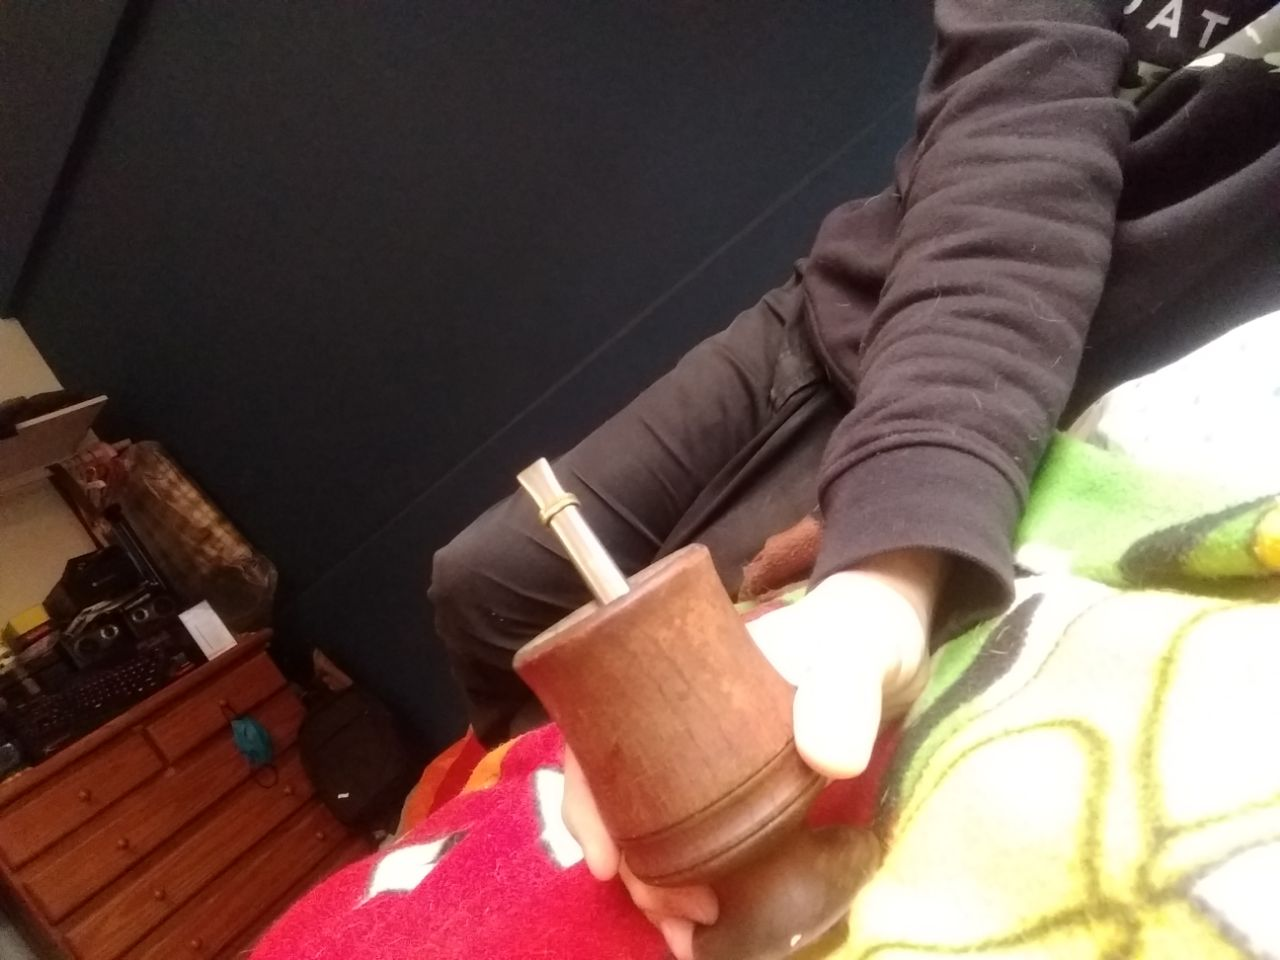madera: (502, 457, 903, 958)
mate: (504, 459, 905, 960)
